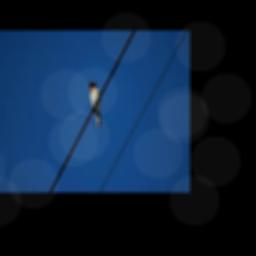Swallow: (89, 80, 102, 130)
